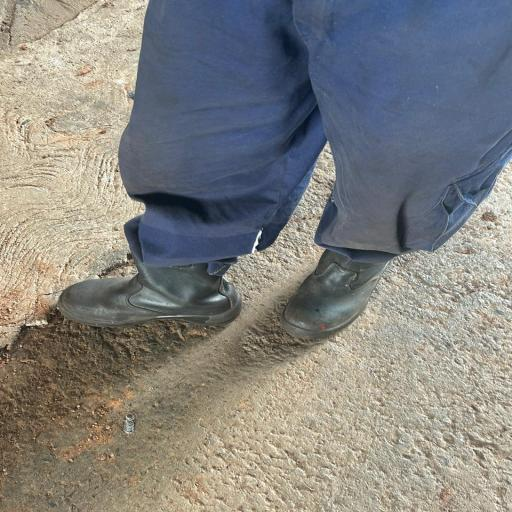safety_shoe: (46, 215, 252, 333), (266, 235, 392, 344)
